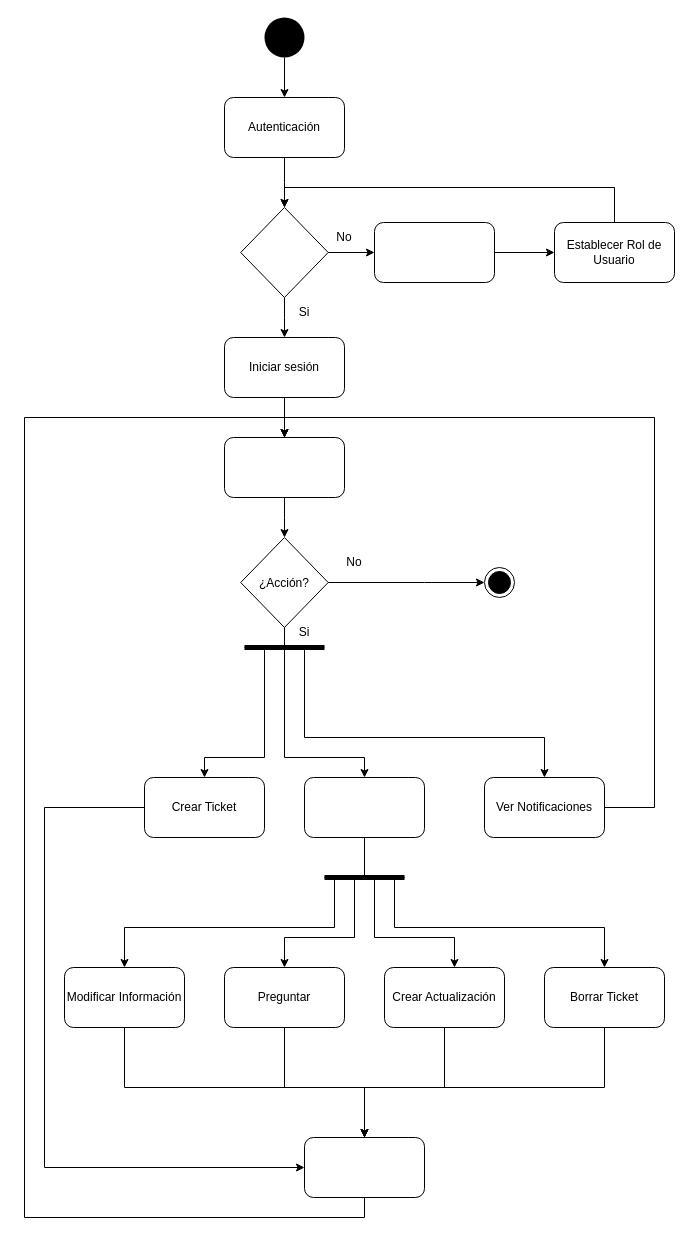
Some shapes in this 692 by 1243 pixel diagram are drawn without their labels. The shapes that lost their labels are listed below. From the top down, each one's centre as x and y in pixels, then its label:
the point at 284,252: ¿Está registrado?
the point at 434,252: Registro
the point at 284,467: Ver listado de Tickets
the point at 364,807: Modificar Ticket
the point at 364,1167: Crear Notificación
